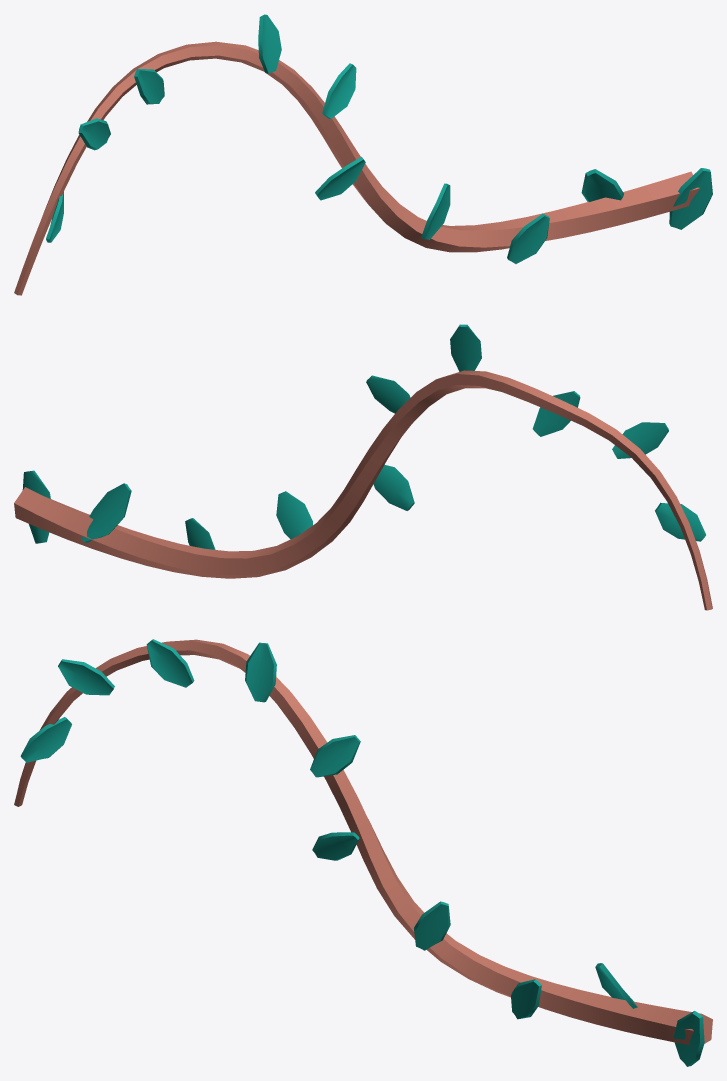
Rendered from SM_Vine5.fbx.
3 renders of one model, top to bottom at view 1: azimuth 30°, elevation 25°; view 2: azimuth 150°, elevation 25°; view 3: azimuth 330°, elevation 25°, orthographic.
Visible parts, largest first — view 1: Vine5; view 2: Vine5; view 3: Vine5.
Boxes of the visible parts, x1,y1,x2,y2 form: Vine5: (14, 14, 712, 295); Vine5: (14, 324, 712, 610); Vine5: (14, 639, 712, 1066).
Bounding box in the file's own units: 72.73 × 31.89 × 5.94.
